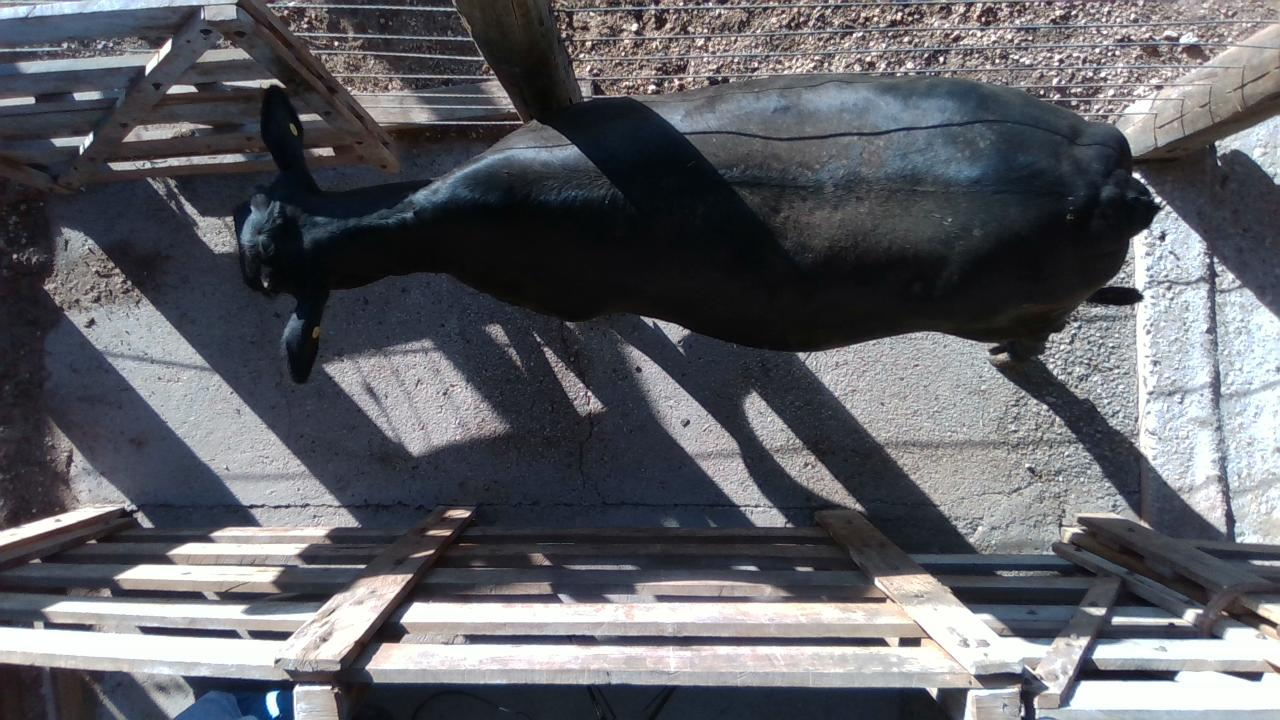cattle: (231, 71, 1161, 383)
